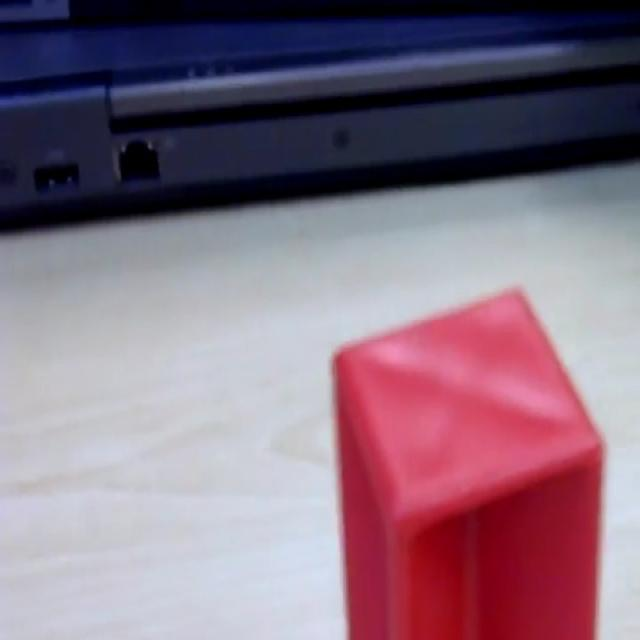red_block: (331, 281, 606, 636)
